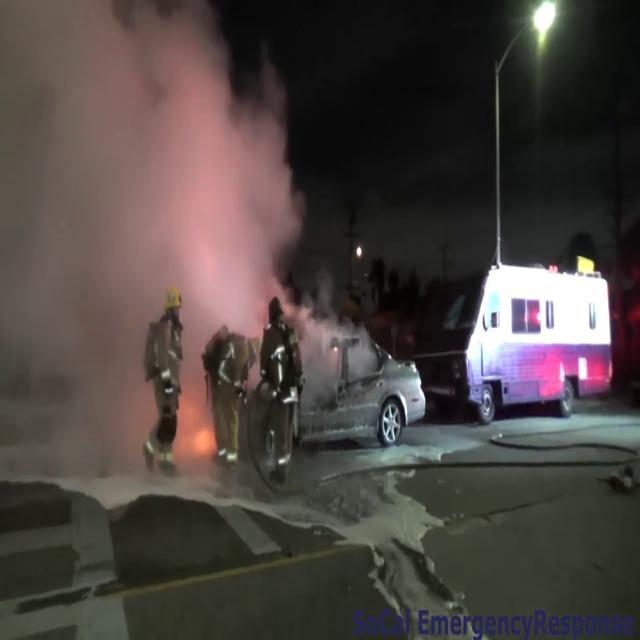Smoke: (0, 0, 312, 446)
